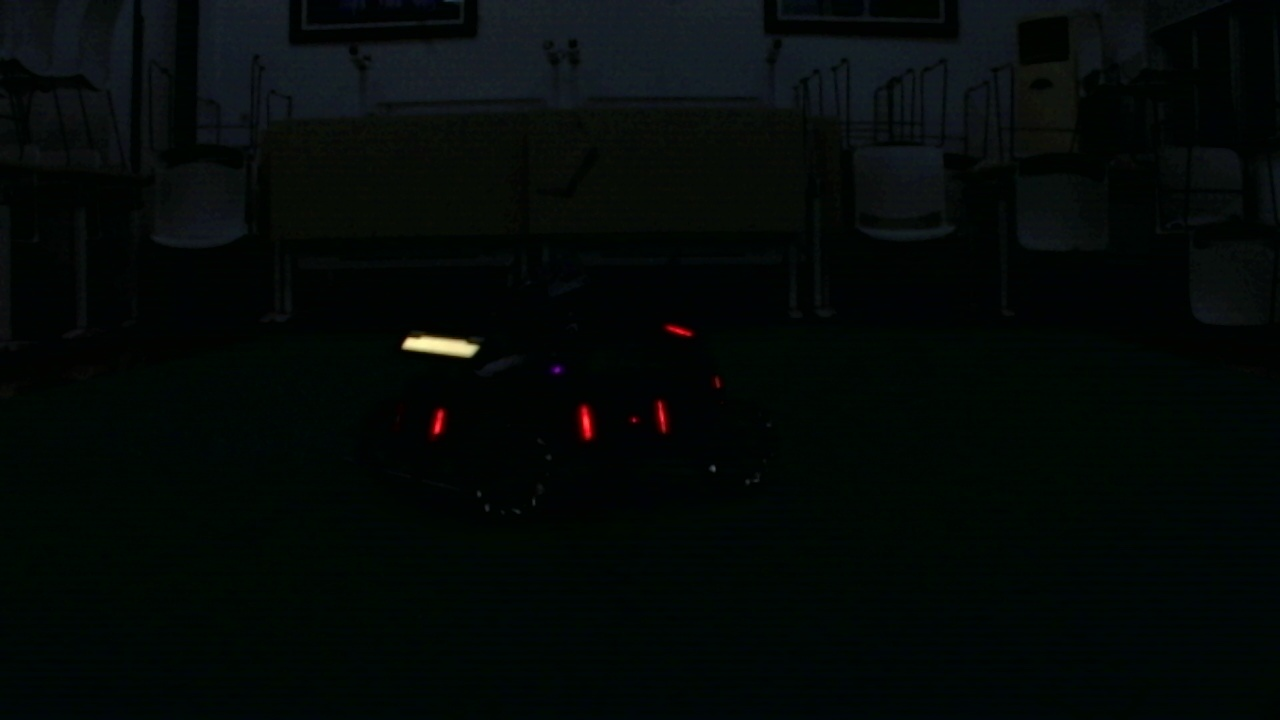lamp: (655, 398, 669, 440), (578, 406, 594, 440), (433, 400, 444, 437)
pair1: (577, 398, 673, 433)
